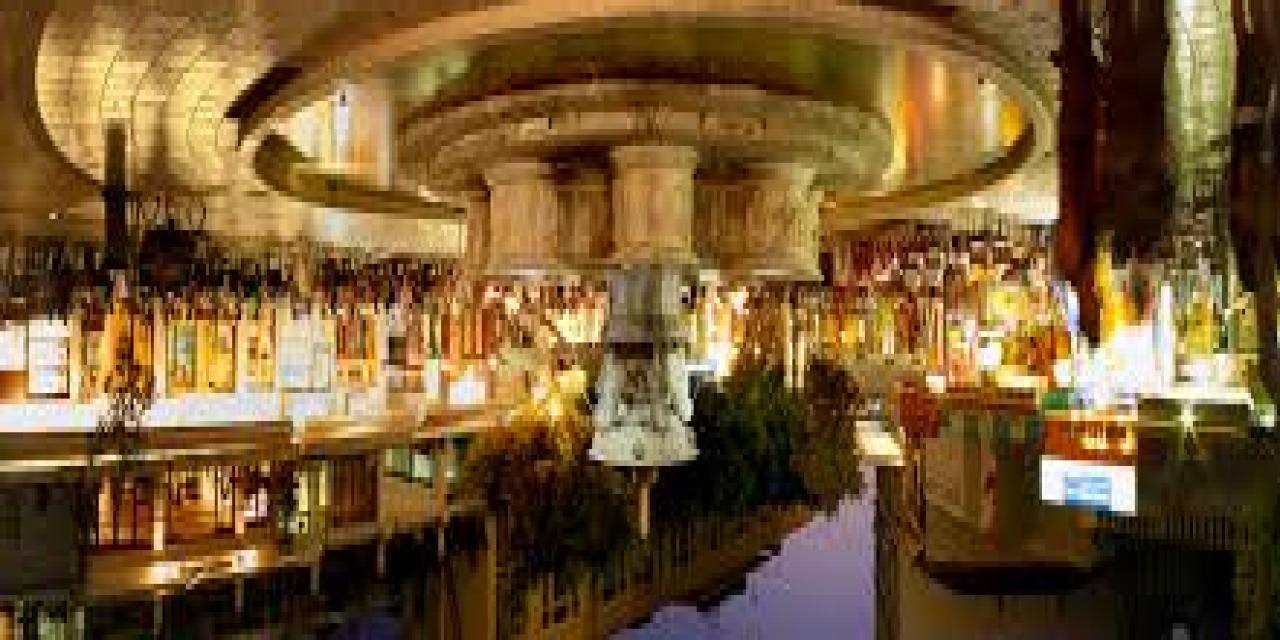Liontaria: (458, 148, 830, 488)
